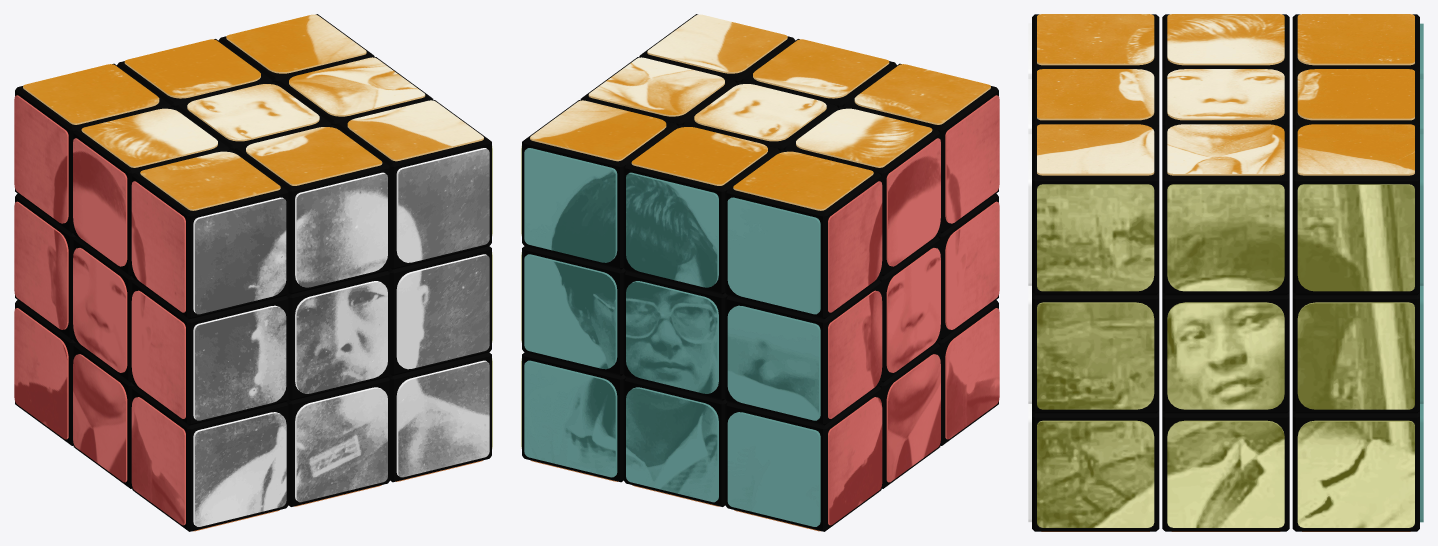
3 views of the same model, side by side, from view 1: azimuth 30°, elevation 25°; view 2: azimuth 150°, elevation 25°; view 3: azimuth 270°, elevation 25° (orthographic). The views are drawn at different scales.
Parts seen in each view (by area): view 1: BASE1, BASE7, BASE4, BASE2, BASE3, BASE19, BASE10, BASE8, BASE9, BASE5, BASE6, BASE13 (+7 smaller); view 2: BASE19, BASE25, BASE22, BASE20, BASE21, BASE1, BASE10, BASE26, BASE27, BASE23, BASE24, BASE13 (+7 smaller); view 3: BASE3, BASE21, BASE12, BASE9, BASE27, BASE6, BASE24, BASE15, BASE18, BASE2, BASE20, BASE1 (+3 smaller).
Part boxes in pixels (x1,y1,x2,y2): BASE1: [131, 149, 288, 319]; BASE7: [131, 386, 288, 531]; BASE4: [131, 280, 288, 425]; BASE2: [234, 125, 390, 294]; BASE3: [336, 100, 492, 269]; BASE19: [14, 63, 171, 233]; BASE10: [73, 106, 229, 276]; BASE8: [286, 377, 390, 506]; BASE9: [388, 352, 492, 482]; BASE5: [286, 271, 390, 400]; BASE6: [388, 246, 492, 375]; BASE13: [73, 236, 134, 382]; BASE19: [725, 149, 882, 319]; BASE25: [725, 386, 882, 531]; BASE22: [725, 280, 882, 425]; BASE20: [623, 125, 779, 294]; BASE21: [521, 100, 677, 269]; BASE1: [842, 63, 999, 233]; BASE10: [784, 106, 940, 276]; BASE26: [623, 377, 727, 506]; BASE27: [521, 352, 625, 482]; BASE23: [623, 271, 727, 400]; BASE24: [521, 246, 625, 375]; BASE13: [879, 236, 940, 382]; BASE3: [1028, 124, 1159, 295]; BASE21: [1292, 124, 1423, 295]; BASE12: [1162, 124, 1289, 295]; BASE9: [1028, 404, 1159, 531]; BASE27: [1292, 404, 1423, 531]; BASE6: [1028, 286, 1159, 413]; BASE24: [1292, 286, 1423, 413]; BASE15: [1162, 293, 1289, 413]; BASE18: [1162, 411, 1289, 531]; BASE2: [1028, 69, 1159, 133]; BASE20: [1292, 69, 1423, 133]; BASE1: [1028, 14, 1159, 78].
Bounding box in the file's own units: 2.02 × 2.02 × 2.02.
7 materials, 6 textured.
